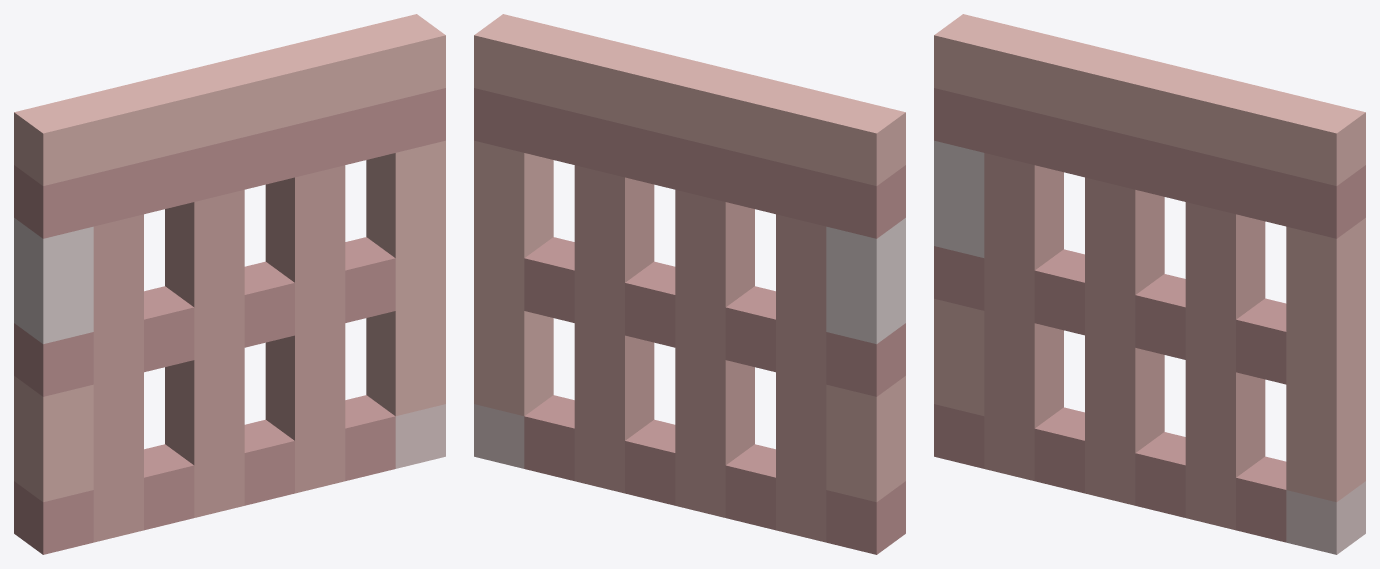
File: _Cherry Door Top.glb
The picture shows the model from 3 angles, left to right: view 1: azimuth 30°, elevation 25°; view 2: azimuth 150°, elevation 25°; view 3: azimuth 330°, elevation 25°; orthographic projection.
Parts seen in each view (by area): view 1: generated(Clone); view 2: generated(Clone); view 3: generated(Clone).
Part boxes in pixels (<box>): generated(Clone): <box>14,14,445,554</box>; generated(Clone): <box>474,14,905,554</box>; generated(Clone): <box>934,14,1365,554</box>.
Bounding box in the file's own units: 8 × 8 × 1.
Materials: 1 (1 with a texture image).
